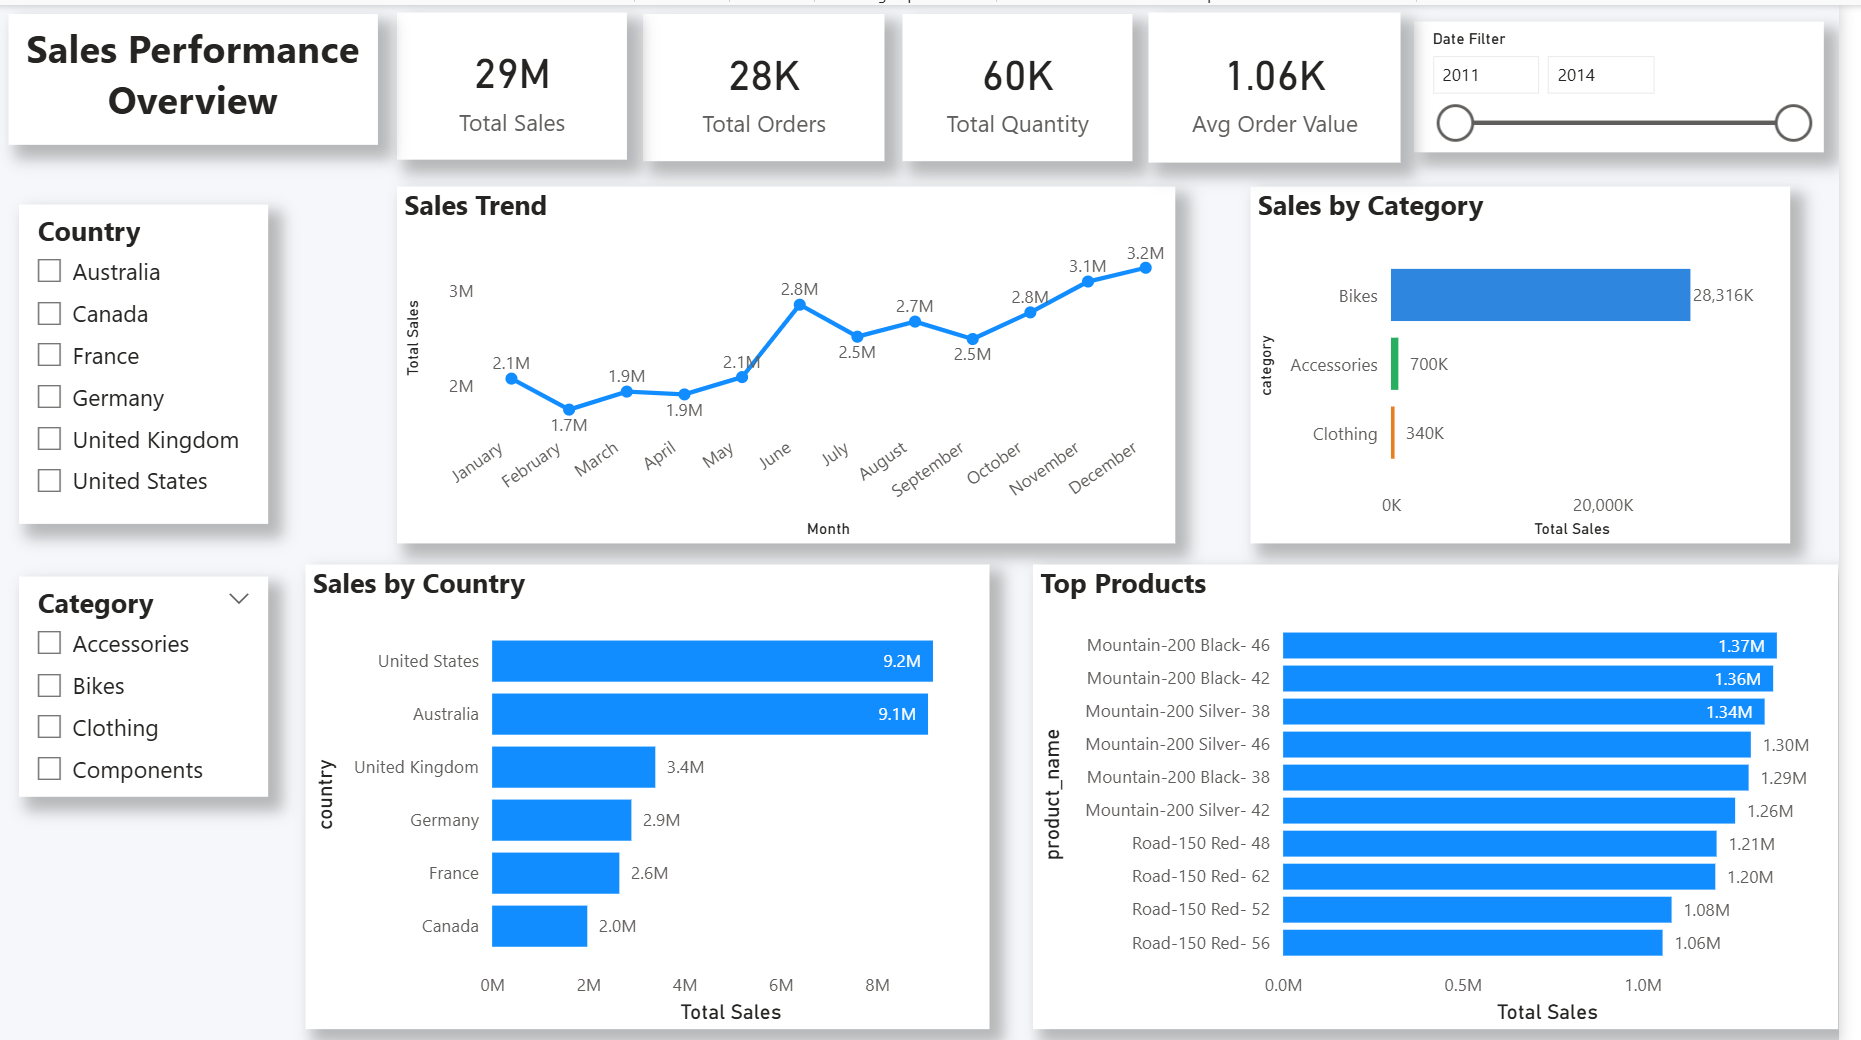

The page's visual inventory and layout, read from the dashboard file:
{"tool":"powerbi","page":{"name":"Sales Overview","canvas":[1280,720],"ordinal":0},"visuals":[{"type":"card","fields":{"Values":["gold fact_sales.Total Orders"]},"box":[451.5,6.2,167.4,101.9],"z":0},{"type":"card","fields":{"Values":["gold fact_sales.Total Quantity"]},"box":[630.6,6.2,159,101.9],"z":1000},{"type":"card","fields":{"Values":["gold fact_sales.Total Sales"]},"box":[280.7,5.2,159,101.9],"z":2000},{"type":"lineChart","title":"Sales Trend ","fields":{"Y":["gold fact_sales.Total Sales"],"Category":["gold fact_sales.ship_date.Variation.Date Hierarchy.Month"]},"box":[280.7,125.8,539.5,247.4],"z":3000},{"type":"slicer","fields":{"Values":["gold fact_sales.ship_date.Variation.Date Hierarchy.Year"]},"box":[985.4,11.4,283.8,90.4],"z":4000},{"type":"clusteredBarChart","title":"Sales by Category","fields":{"Category":["gold dim_products.category"],"Y":["gold fact_sales.Total Sales"]},"box":[872.1,125.8,374.2,247.4],"z":5000},{"type":"slicer","fields":{"Values":["gold dim_products.category"]},"box":[18.7,396,172.6,152.8],"z":6000},{"type":"slicer","fields":{"Values":["gold dim_customers.country"]},"box":[18.7,138.3,172.6,221.4],"z":7000},{"type":"clusteredBarChart","title":"Sales by Country","fields":{"Category":["gold dim_customers.country"],"Y":["gold fact_sales.Total Sales"]},"box":[217,388.2,473.9,322.1],"z":8000},{"type":"textbox","box":[11.4,6.2,255.7,90.4],"z":9000},{"type":"clusteredBarChart","title":"Top Products","fields":{"Category":["gold dim_products.product_name"],"Y":["gold fact_sales.Total Sales"]},"box":[721.4,387.7,558.2,322.2],"z":10000},{"type":"card","fields":{"Values":["gold fact_sales.Avg Order Value"]},"box":[801.4,5.2,174.6,103.9],"z":11000}]}

Visuals, with their boxes in screenshot pixels (x1, y1, x2, y2), scaled from the page's 1280x720 canvas onto the 1861x1040 screenshot:
card - gold fact_sales.Total Orders: <bbox>656, 9, 900, 156</bbox>
card - gold fact_sales.Total Quantity: <bbox>917, 9, 1148, 156</bbox>
card - gold fact_sales.Total Sales: <bbox>408, 8, 639, 155</bbox>
"Sales Trend " lineChart: <bbox>408, 182, 1192, 539</bbox>
slicer - gold fact_sales.ship_date.Variation.Date Hierarchy.Year: <bbox>1433, 16, 1845, 147</bbox>
"Sales by Category" clusteredBarChart: <bbox>1268, 182, 1812, 539</bbox>
slicer - gold dim_products.category: <bbox>27, 572, 278, 793</bbox>
slicer - gold dim_customers.country: <bbox>27, 200, 278, 520</bbox>
"Sales by Country" clusteredBarChart: <bbox>315, 561, 1005, 1026</bbox>
textbox: <bbox>17, 9, 388, 140</bbox>
"Top Products" clusteredBarChart: <bbox>1049, 560, 1860, 1025</bbox>
card - gold fact_sales.Avg Order Value: <bbox>1165, 8, 1419, 158</bbox>
